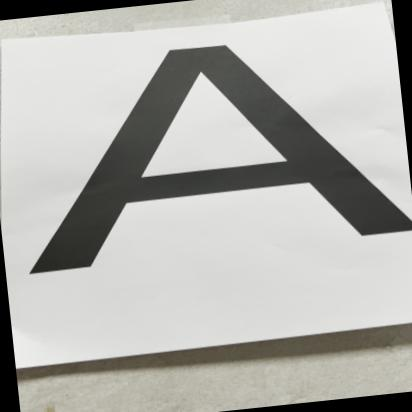seat: (2, 15, 412, 317), (26, 2, 412, 287)
